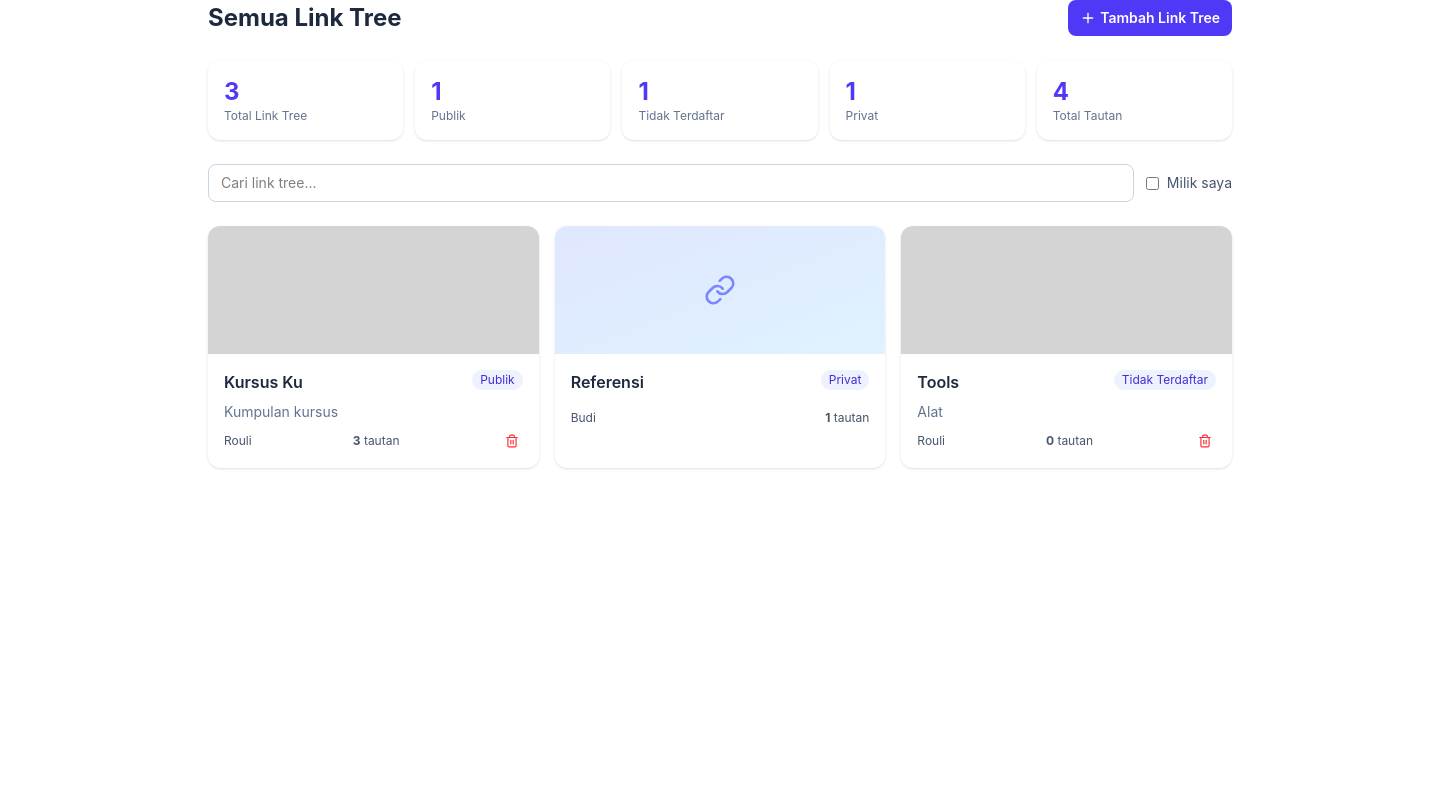
Test: HomePage › menutup modal tambah lewat tombol Tutup
Check: the link "Kursus Ku" is shown, box [224,370,303,394]
Click the button "Tambah Link Tree" at (1150, 18), box [1068,0,1232,36]
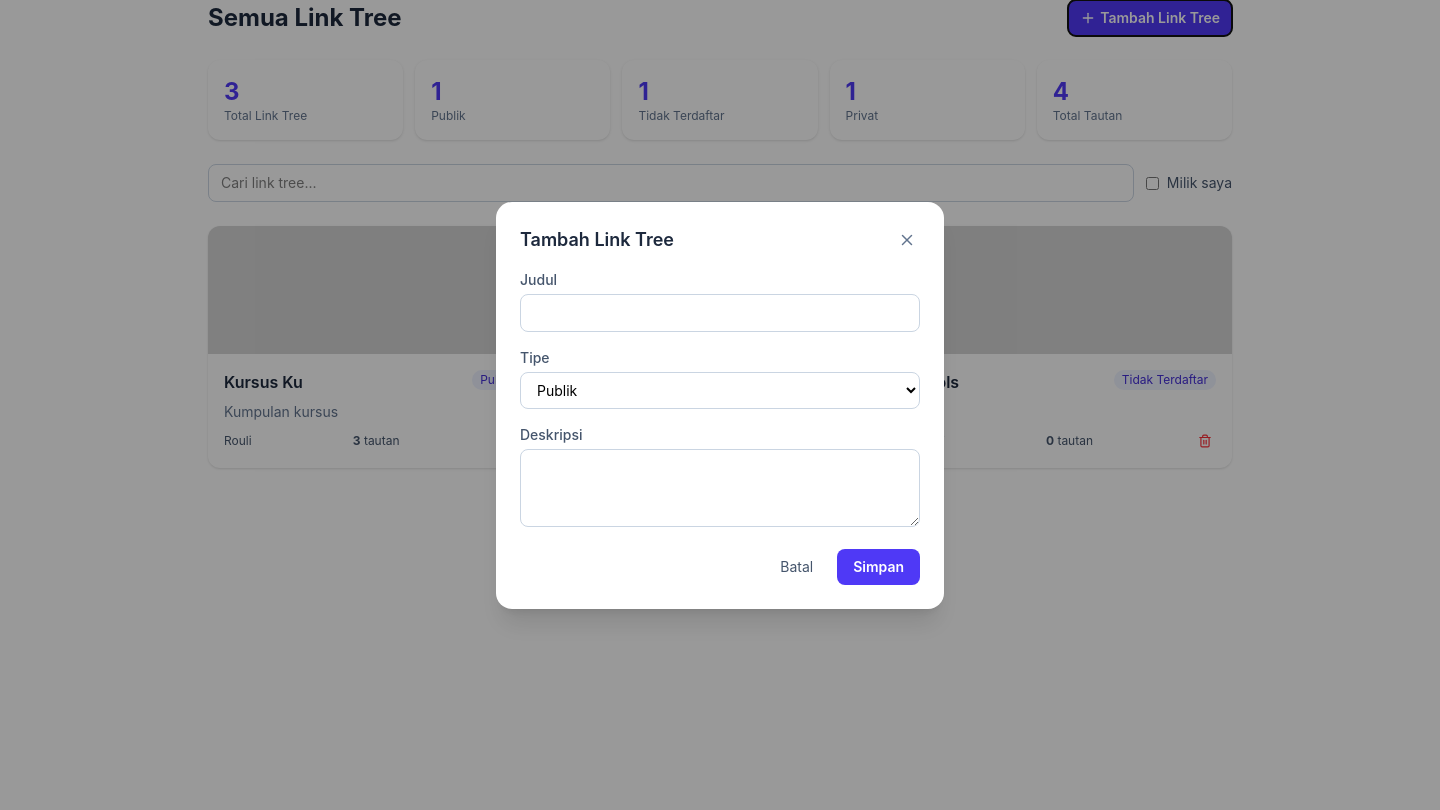
Click the button named "Tutup" at (907, 240), box [894,226,920,252]
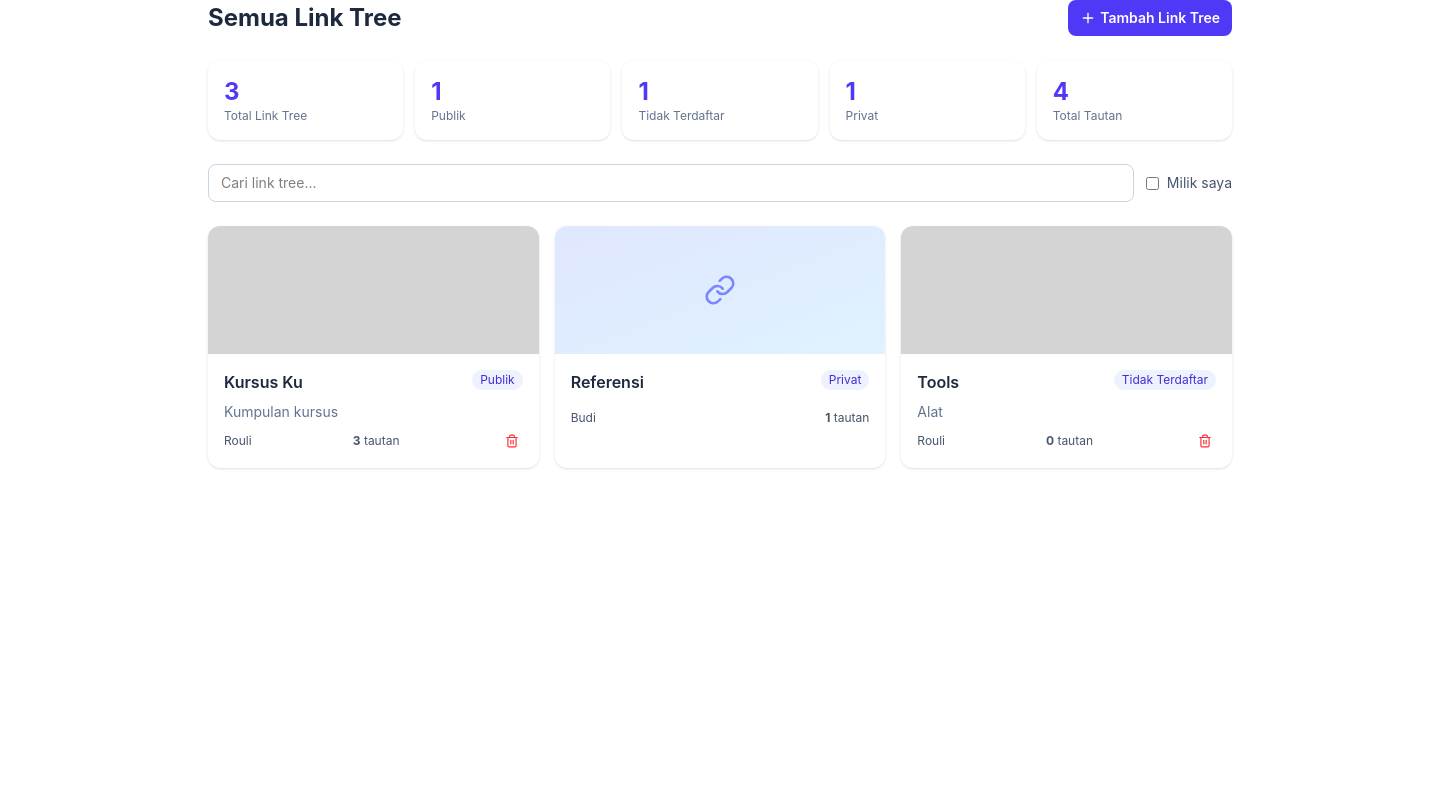
Check: the dialog is gone
